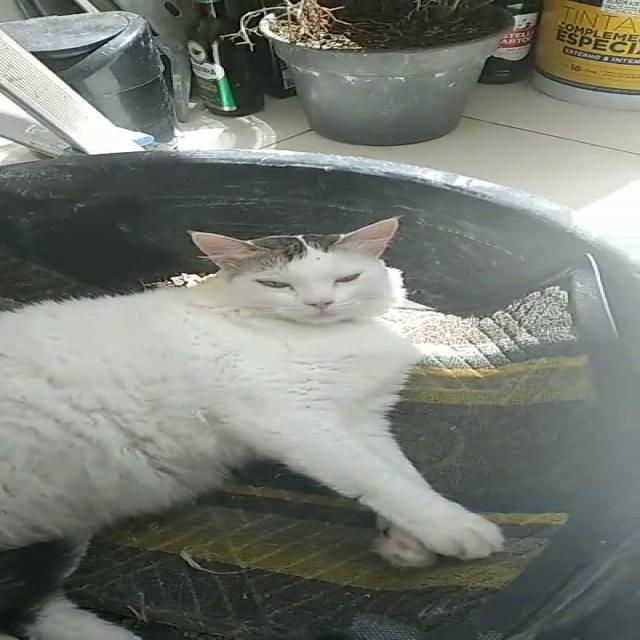Simba: (0, 204, 534, 639)
